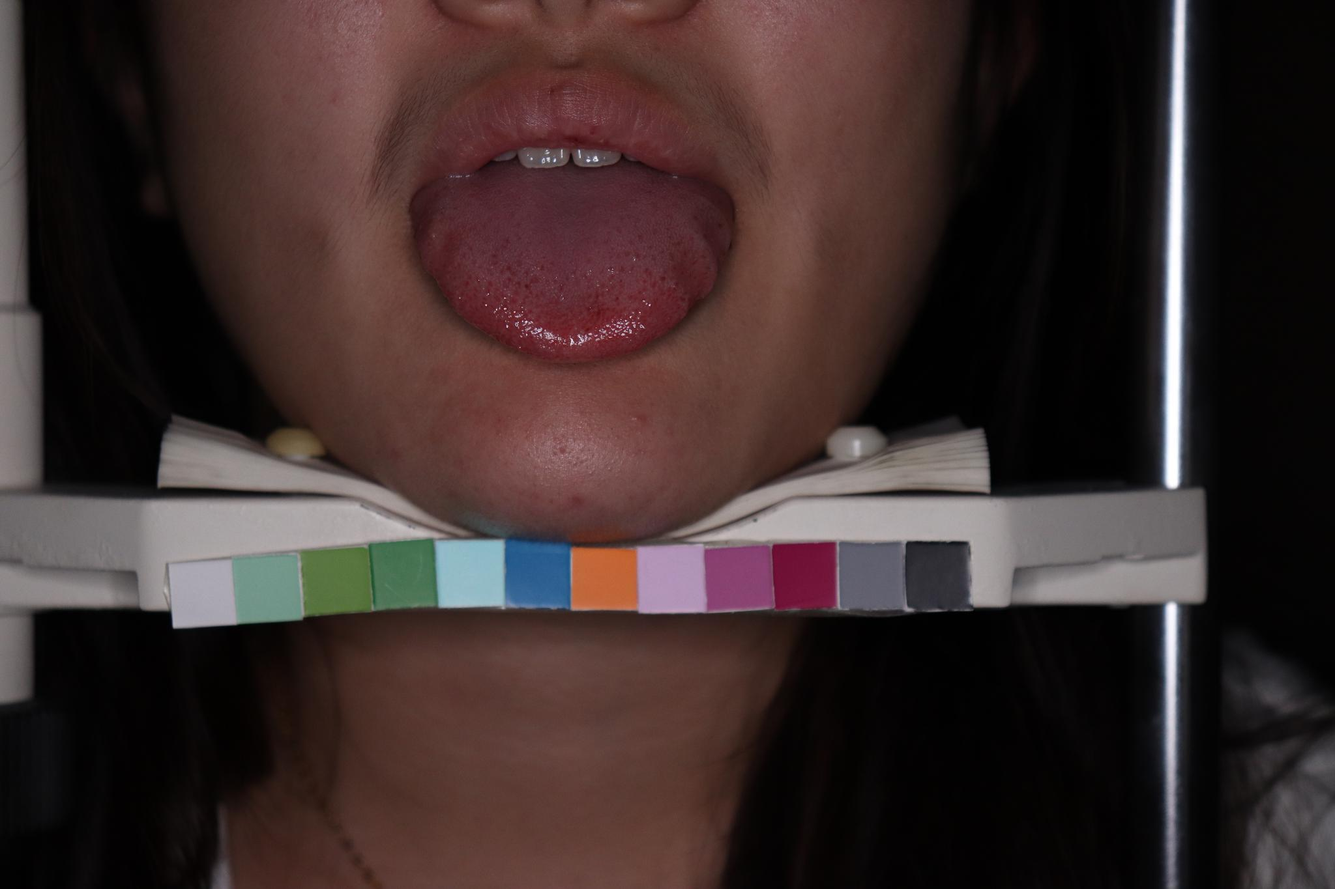baitaishe: (409, 151, 735, 360)
hongdianshe: (521, 281, 531, 290), (613, 294, 621, 303)
hongshe: (409, 151, 735, 360)
